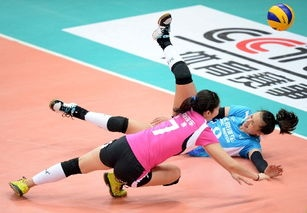falling: (26, 11, 249, 199)
